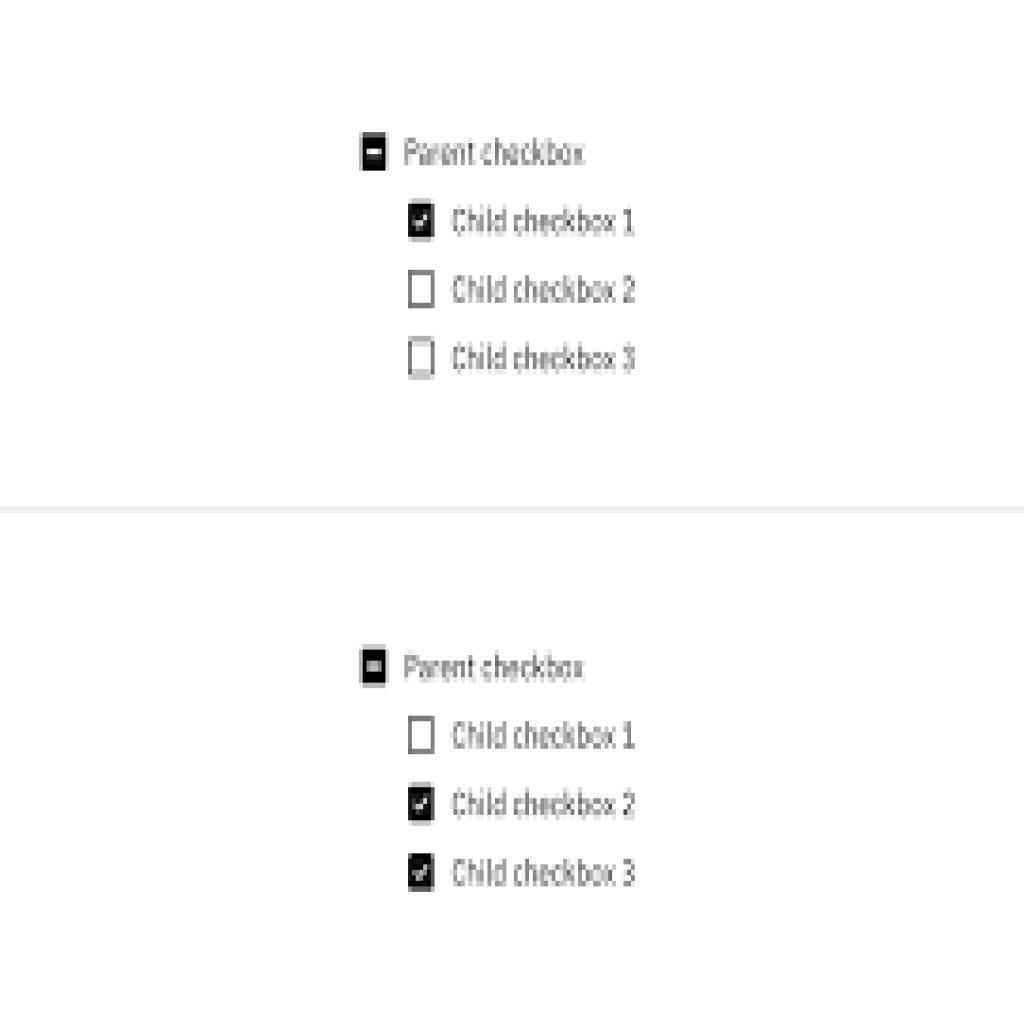checkbox: (406, 781, 438, 828), (407, 199, 439, 245), (407, 713, 439, 759), (407, 851, 438, 898), (406, 336, 438, 379), (408, 269, 439, 312)
